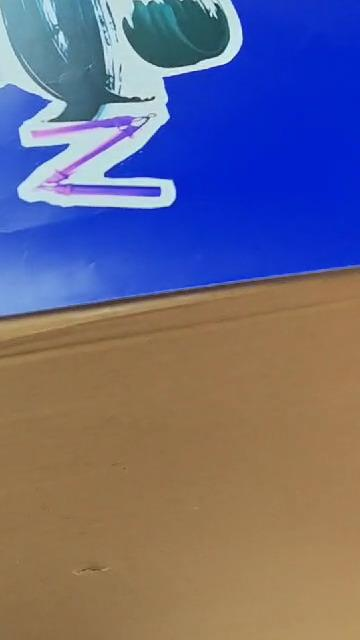B_R1: (0, 0, 290, 245)
